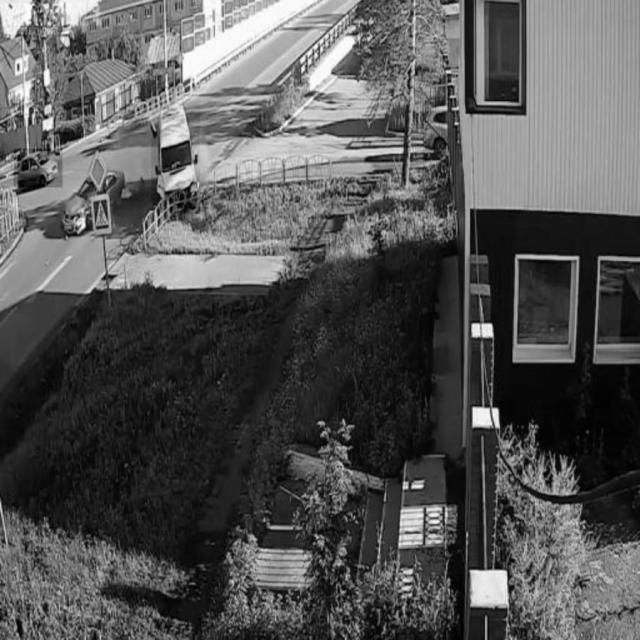vehicle: (151, 101, 199, 213), (67, 172, 129, 229), (14, 149, 62, 187)
